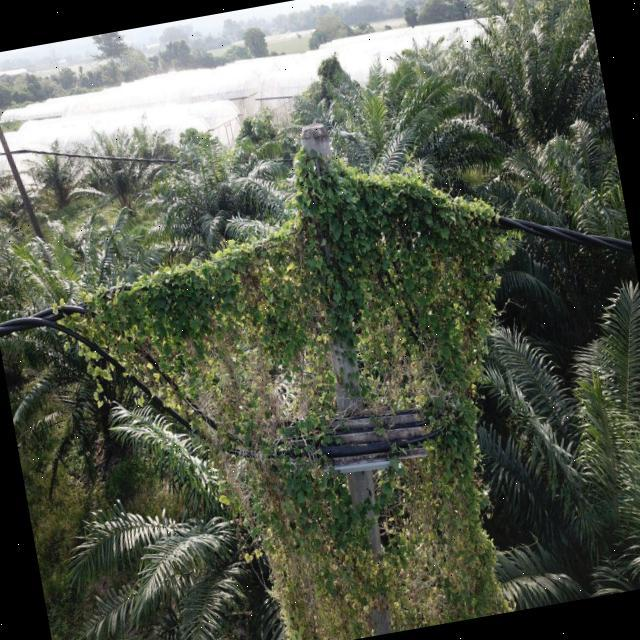critical vegetation: (26, 106, 569, 552)
